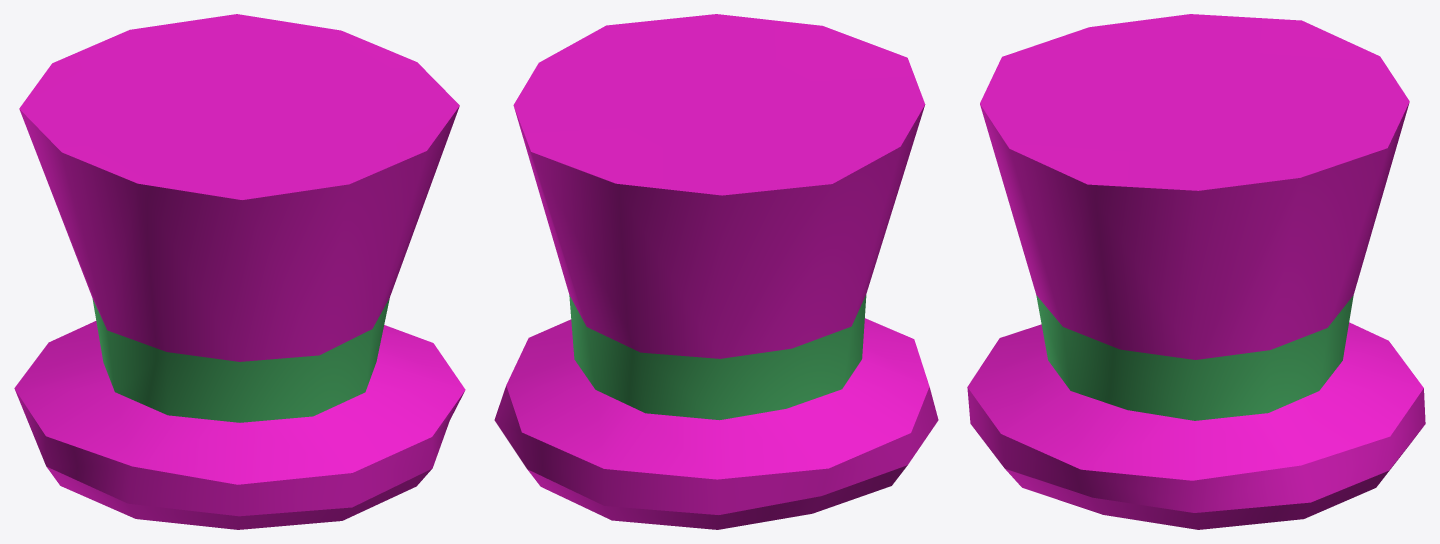
Rendered from CylinderHat.fbx.
3 views of the same model, side by side, from view 1: azimuth 30°, elevation 25°; view 2: azimuth 150°, elevation 25°; view 3: azimuth 270°, elevation 25° (orthographic).
Visible parts, largest first — view 1: CylinderHat; view 2: CylinderHat; view 3: CylinderHat.
Boxes of the visible parts, x1,y1,x2,y2 form: CylinderHat: [14, 14, 465, 529]; CylinderHat: [494, 14, 938, 529]; CylinderHat: [967, 14, 1425, 529].
Bounding box in the file's own units: 70.43 × 60.13 × 72.03.
